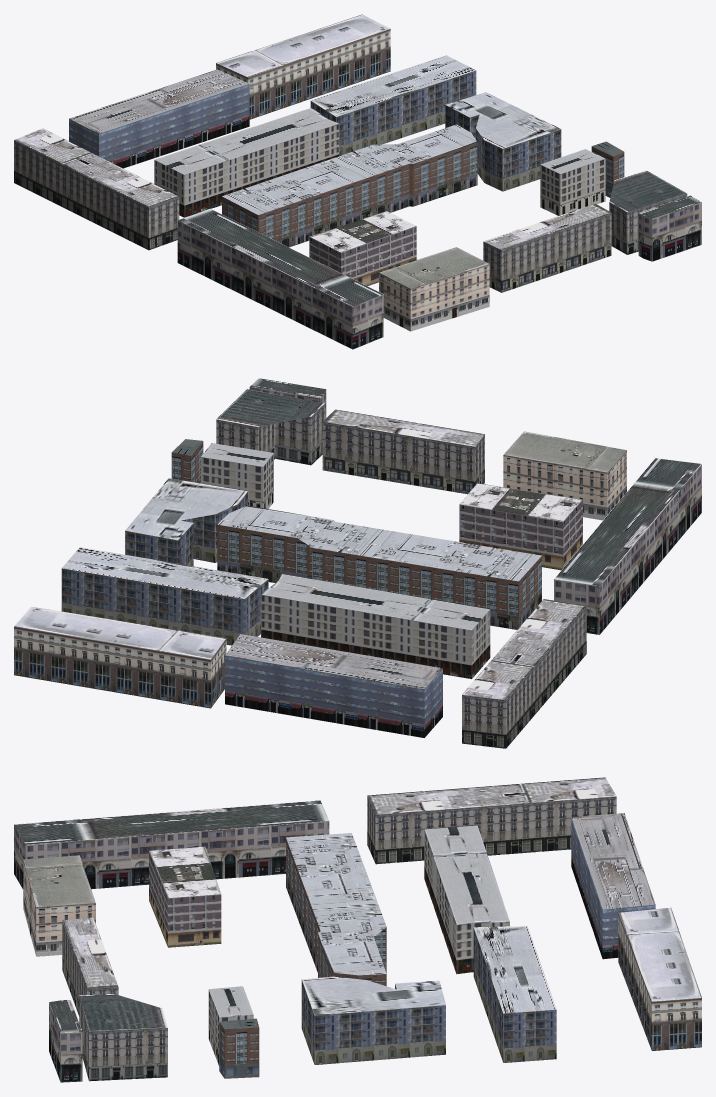
Rendered from community.fbx.
3 renders of one model, top to bottom at view 1: azimuth 30°, elevation 25°; view 2: azimuth 150°, elevation 25°; view 3: azimuth 270°, elevation 25°, orthographic. The views are drawn at different scales.
Parts seen in each view (by area): view 1: face_from_component_split_83, face_from_component_split_67, face_from_component_split_30, face_from_component_split_3, face_from_component_split_13, face_from_component_split_77, face_from_component_split_152, face_from_component_split_121, face_from_component_split_8, face_from_component_split_147, face_from_component_split_95, face_from_component_split_85 (+41 smaller); view 2: face_from_component_split_83, face_from_component_split_28, face_from_component_split_1, face_from_component_split_11, face_from_component_split_123, face_from_component_split_67, face_from_component_split_109, face_from_component_split_155, face_from_component_split_8, face_from_component_split_147, face_from_component_split_85, face_from_component_split_95 (+35 smaller); view 3: face_from_component_split_83, face_from_component_split_150, face_from_component_split_67, face_from_component_split_55, face_from_component_split_8, face_from_component_split_147, face_from_component_split_95, face_from_component_split_85, face_from_component_split_131, face_from_component_split_148, face_from_component_split_73, face_from_component_split_75 (+37 smaller).
Part boxes in pixels (<box>): face_from_component_split_83: <box>222,124,477,214</box>; face_from_component_split_67: <box>178,208,383,306</box>; face_from_component_split_30: <box>184,123,339,205</box>; face_from_component_split_3: <box>99,84,249,161</box>; face_from_component_split_13: <box>258,164,409,240</box>; face_from_component_split_77: <box>177,239,352,349</box>; face_from_component_split_152: <box>14,140,148,238</box>; face_from_component_split_121: <box>336,70,476,146</box>; face_from_component_split_8: <box>154,108,338,174</box>; face_from_component_split_147: <box>69,69,249,133</box>; face_from_component_split_95: <box>14,128,178,207</box>; face_from_component_split_85: <box>216,14,390,77</box>; face_from_component_split_83: <box>217,505,541,581</box>; face_from_component_split_28: <box>261,594,471,665</box>; face_from_component_split_1: <box>225,655,424,724</box>; face_from_component_split_11: <box>312,548,518,616</box>; face_from_component_split_123: <box>61,568,244,633</box>; face_from_component_split_67: <box>554,458,701,586</box>; face_from_component_split_109: <box>14,648,210,708</box>; face_from_component_split_155: <box>322,421,475,481</box>; face_from_component_split_8: <box>261,574,489,630</box>; face_from_component_split_147: <box>225,634,442,689</box>; face_from_component_split_85: <box>14,606,226,659</box>; face_from_component_split_95: <box>462,599,586,699</box>; face_from_component_split_83: <box>286,833,386,975</box>; face_from_component_split_150: <box>375,796,616,850</box>; face_from_component_split_67: <box>14,800,329,844</box>; face_from_component_split_55: <box>26,821,329,861</box>; face_from_component_split_8: <box>424,825,509,924</box>; face_from_component_split_147: <box>571,813,655,909</box>; face_from_component_split_95: <box>367,777,616,814</box>; face_from_component_split_85: <box>618,907,701,1001</box>; face_from_component_split_131: <box>314,1005,445,1050</box>; face_from_component_split_148: <box>474,926,556,1013</box>; face_from_component_split_73: <box>302,976,445,1015</box>; face_from_component_split_75: <box>82,846,285,889</box>.
Size of the model in its own units: 177 by 16 by 201.
Materials: 35 (35 with a texture image).
